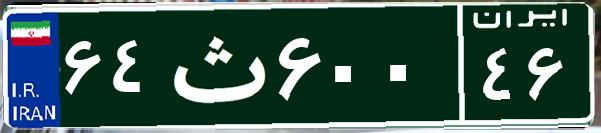0: (385, 28, 445, 110), (330, 28, 385, 110)
4: (475, 38, 525, 113), (110, 28, 158, 105)
6: (273, 28, 330, 110), (57, 26, 110, 107), (525, 38, 570, 115)
ث: (158, 15, 273, 115)
